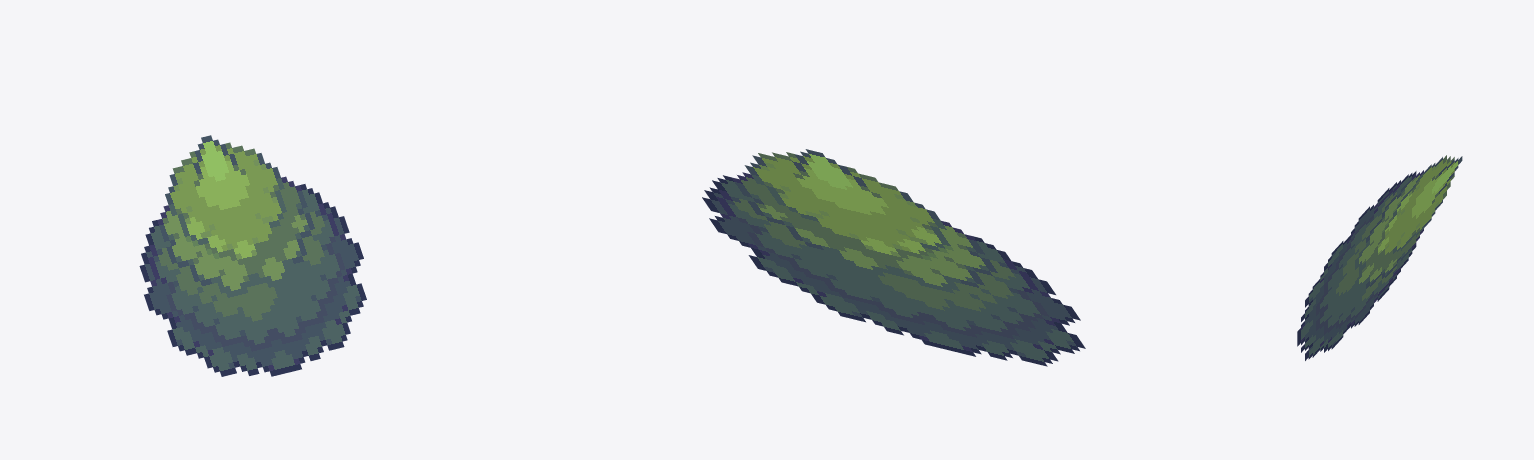
Rendered from ilex-tree.glb.
3 renders of one model, left to right at view 1: azimuth 30°, elevation 25°; view 2: azimuth 150°, elevation 25°; view 3: azimuth 270°, elevation 25°, orthographic. The views are drawn at different scales.
Parts seen in each view (by area): view 1: ilex-tree; view 2: ilex-tree; view 3: ilex-tree.
Part boxes in pixels (bbox=[...]): ilex-tree: bbox=[139, 135, 366, 376]; ilex-tree: bbox=[702, 149, 1085, 366]; ilex-tree: bbox=[1297, 155, 1462, 360].
Bounding box in the file's own units: 64 × 49.34 × 40.77.
Materials: 1 (1 with a texture image).
